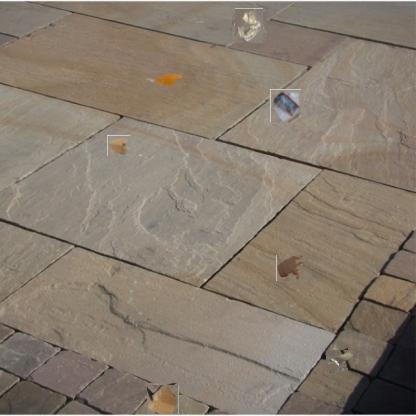dirty: (147, 383, 179, 415), (270, 89, 301, 122), (234, 10, 265, 42), (328, 347, 351, 371), (107, 134, 130, 156)
liquid: (277, 255, 303, 282), (158, 73, 184, 87)
